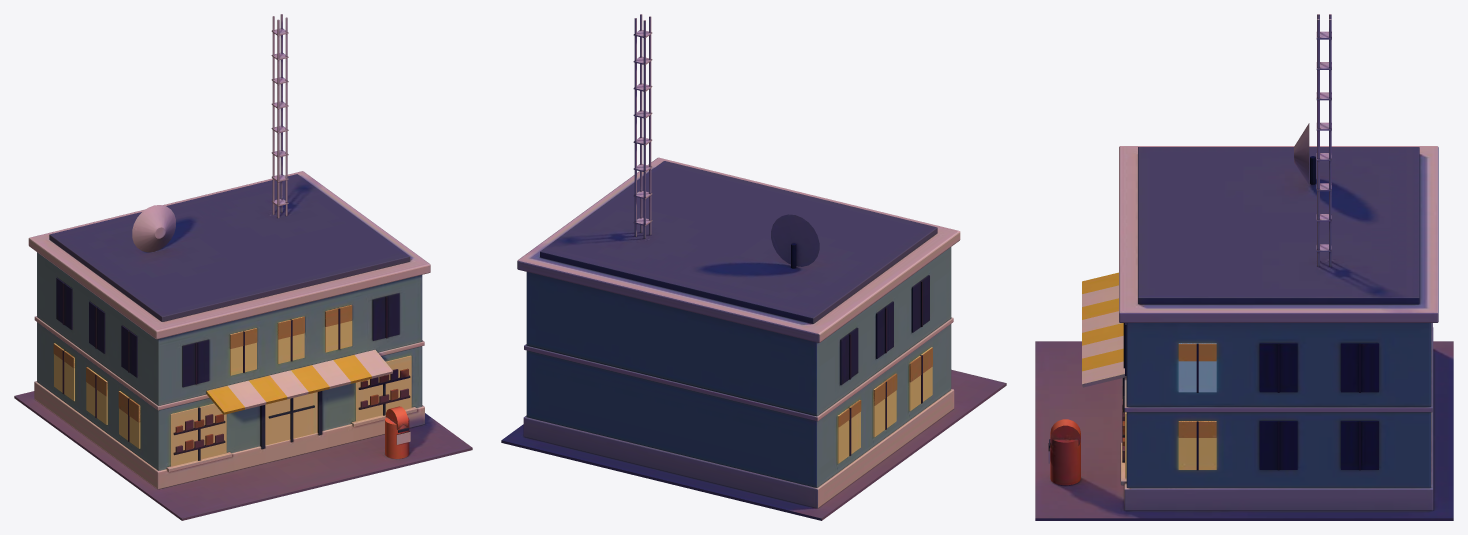
The model's file is post.glb.
The picture shows the model from 3 angles, left to right: view 1: azimuth 30°, elevation 25°; view 2: azimuth 150°, elevation 25°; view 3: azimuth 270°, elevation 25°; orthographic projection. The views are drawn at different scales.
Parts seen in each view (by area): view 1: post; view 2: post; view 3: post.
Boxes of the visible parts, bbox=[...] form: post: bbox=[14, 14, 472, 520]; post: bbox=[501, 14, 1006, 520]; post: bbox=[1035, 14, 1453, 520].
Bounding box in the file's own units: 5.5 × 6.63 × 5.5.
Materials: 1 (1 with a texture image).
